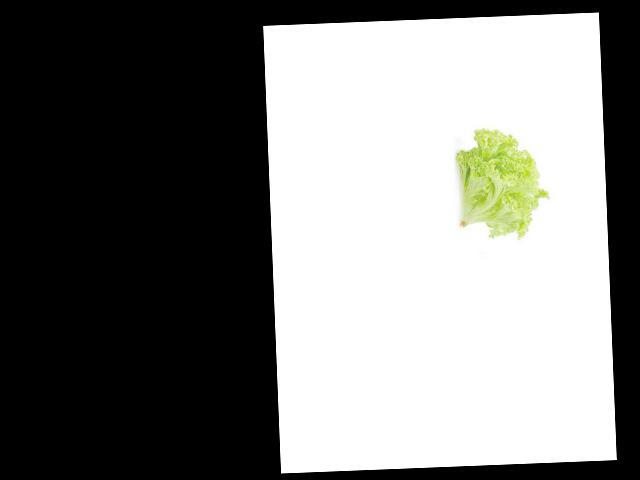lettuce: (441, 133, 546, 240)
